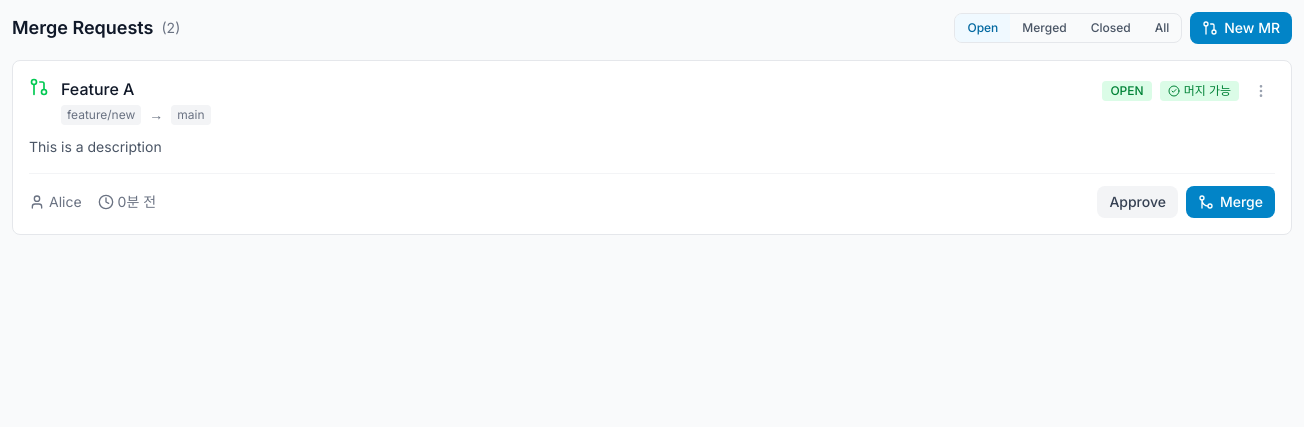
Scenario: MergeRequestList › shows all MRs when "All" filter is selected
Click the button "All" at (1162,28), box [1143, 14, 1181, 42]
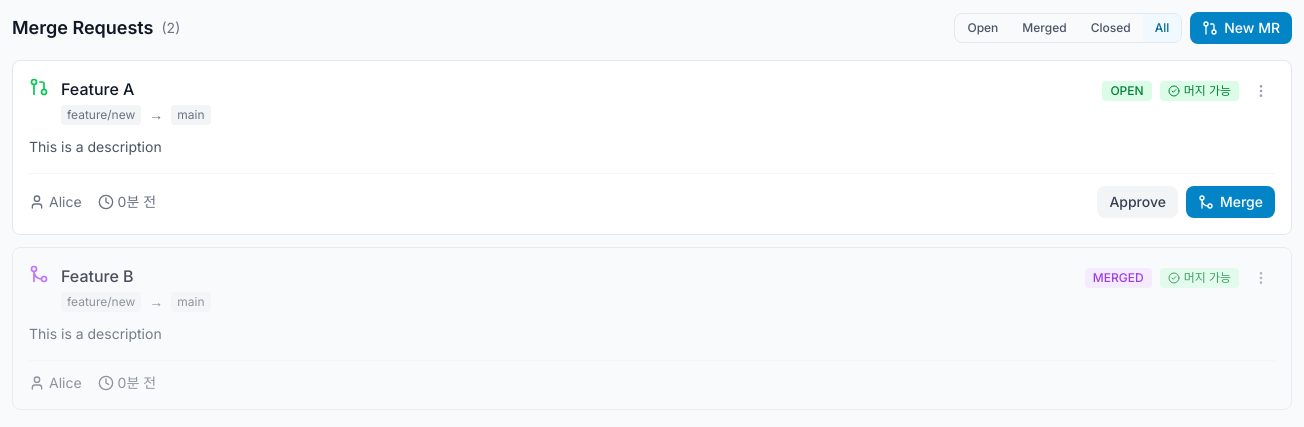
Expected: the heading "Feature A" is shown, [61, 79, 134, 99]
Result: the heading "Feature B" is shown at [61, 266, 134, 286]
